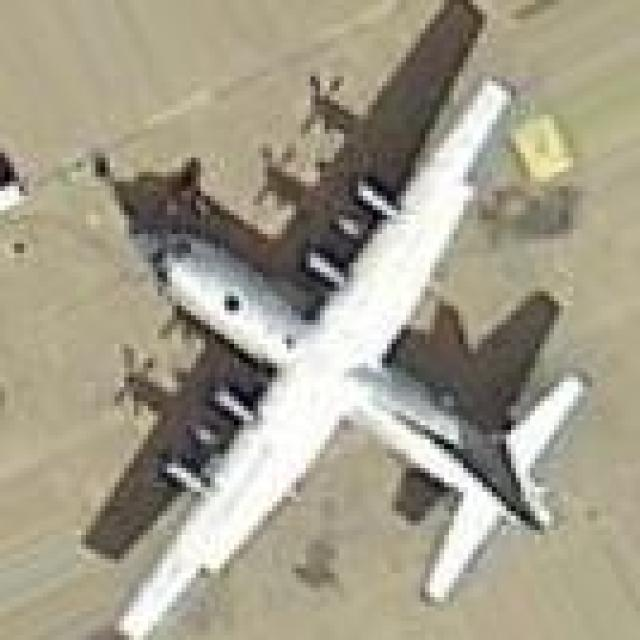C-130_TopDown: (65, 0, 589, 628)
